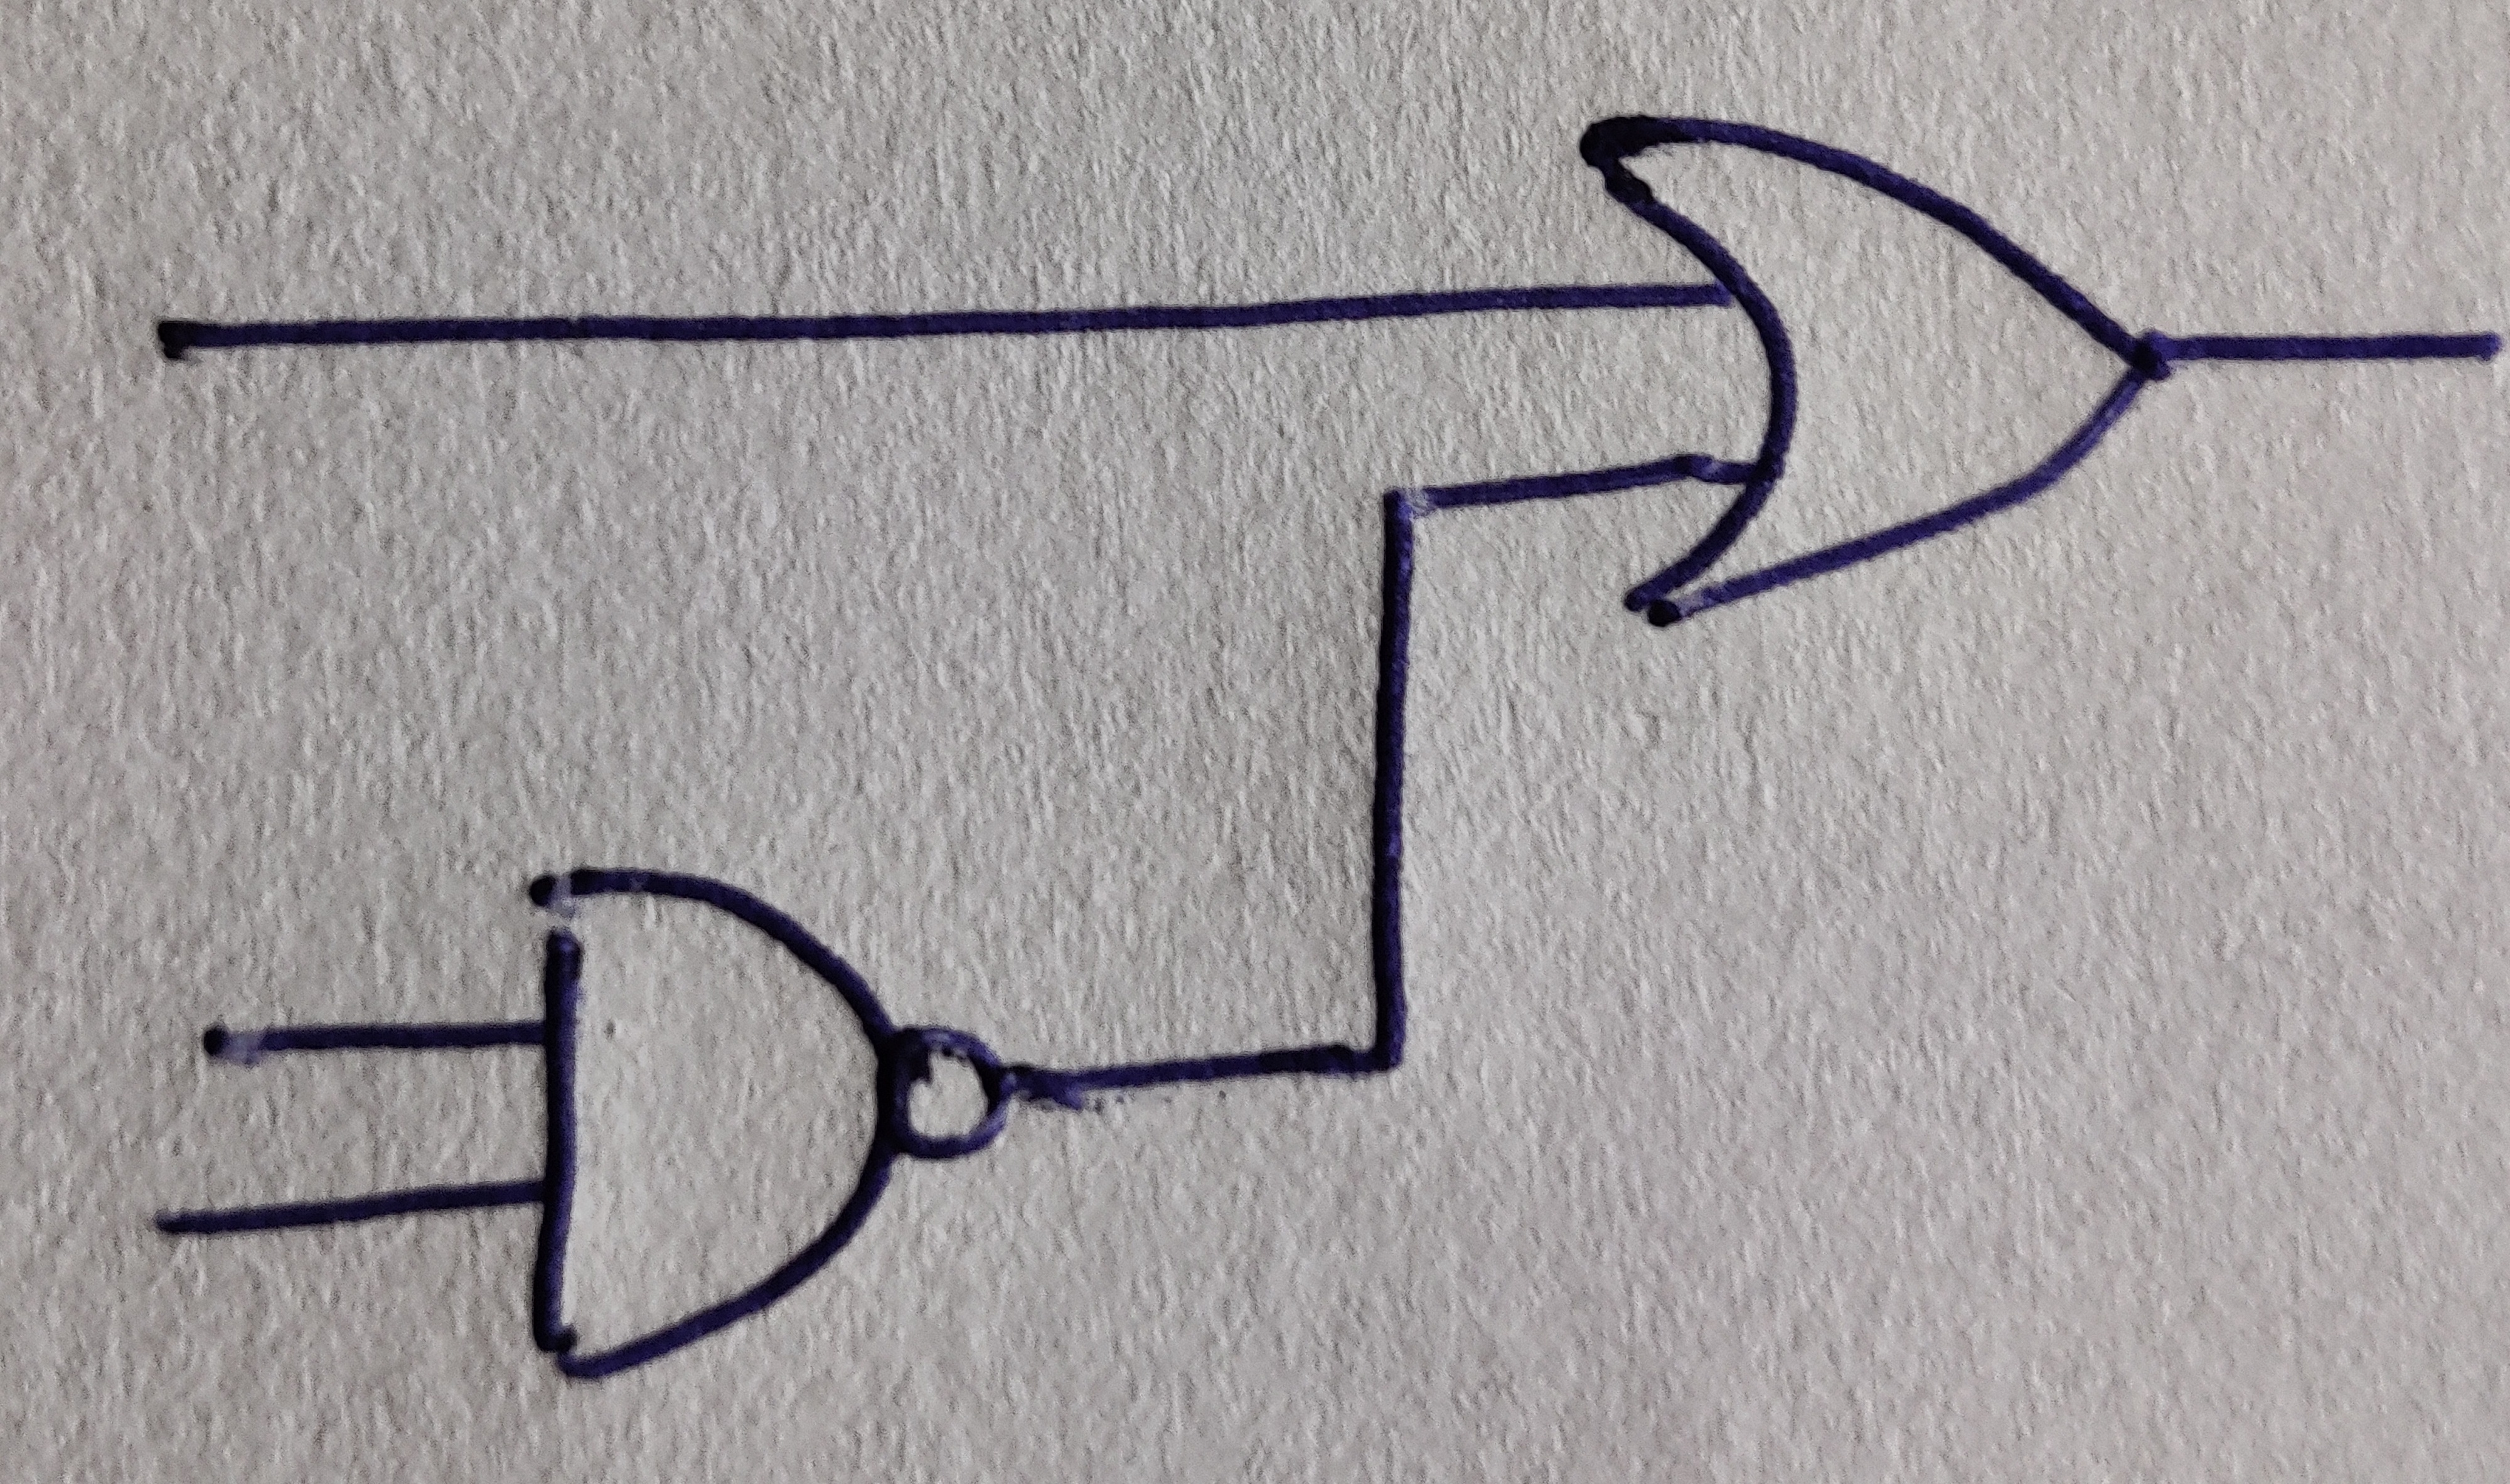and: (530, 867, 903, 1380)
not: (878, 1025, 1012, 1162)
or: (1579, 113, 2164, 629)
